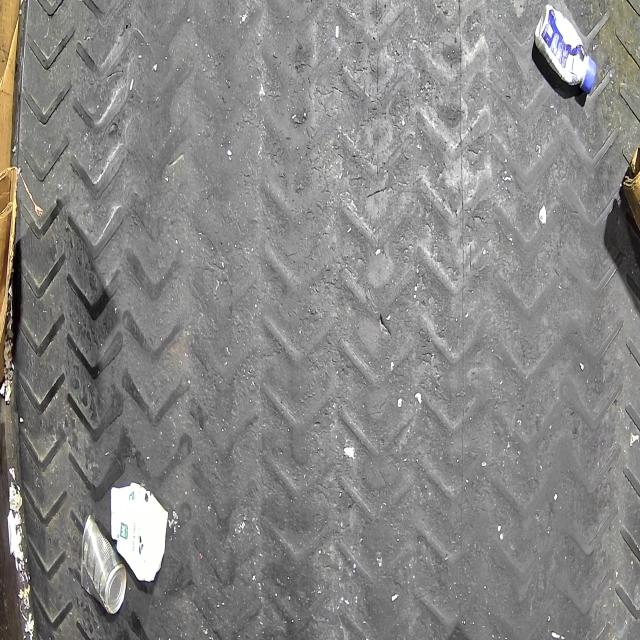can: (80, 514, 128, 616)
